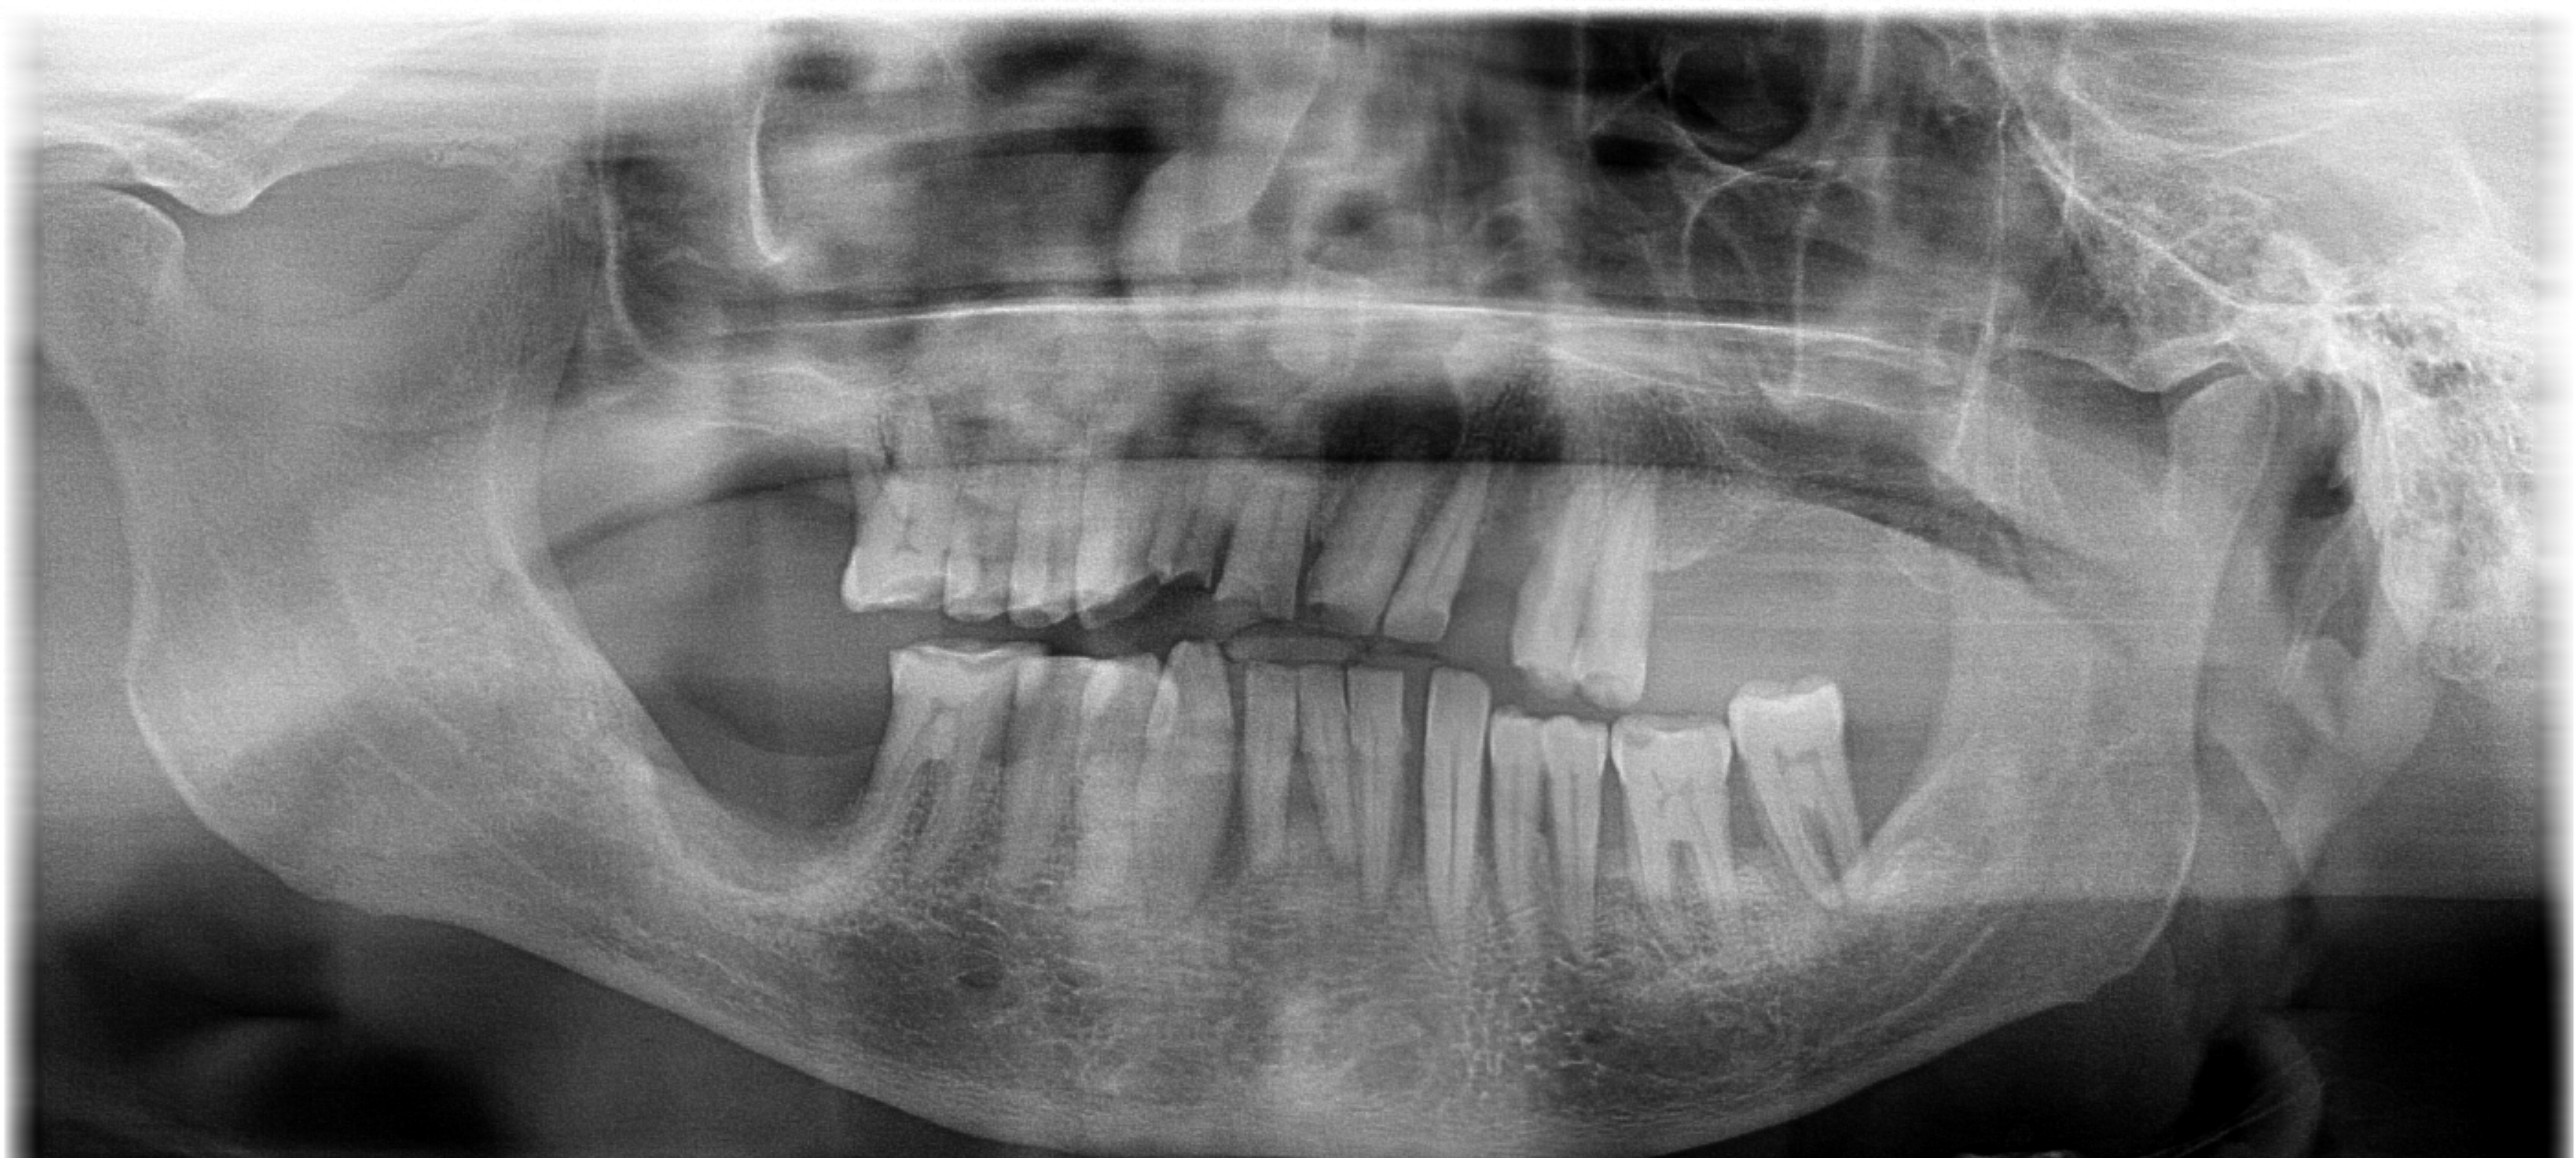cordal: (1715, 657, 1917, 921)
diastema: (1380, 657, 1449, 900)
diente_rotado: (1119, 626, 1255, 935)
zona_dentula: (677, 637, 907, 872), (642, 386, 872, 619), (1441, 448, 1564, 673)
